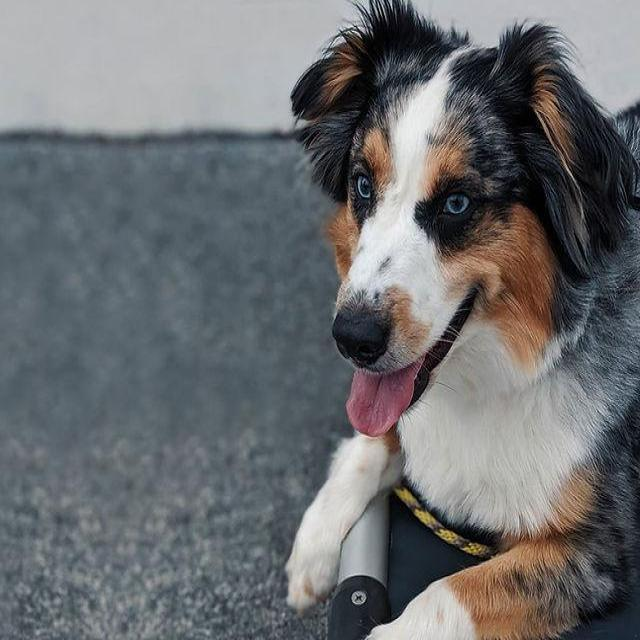Dog: (257, 2, 640, 456)
